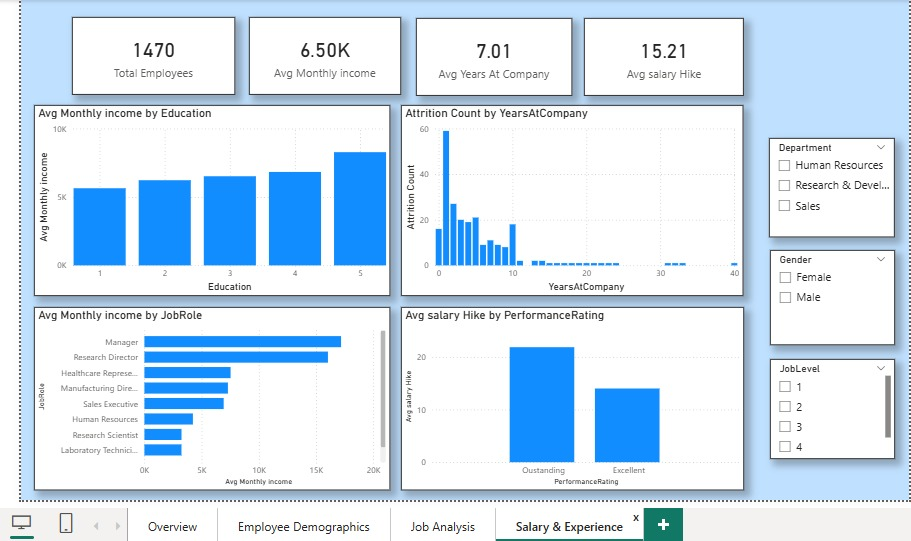

The page's visual inventory and layout, read from the dashboard file:
{"tool":"powerbi","page":{"name":"Salary & Experience","canvas":[1280,720],"ordinal":3},"visuals":[{"type":"clusteredBarChart","fields":{"Category":["HR Data.JobRole"],"Y":["Dax Measures.Avg Monthly income"]},"box":[18.7,442.1,512.6,263.5],"z":0},{"type":"clusteredColumnChart","fields":{"Category":["HR Data.Education"],"Y":["Dax Measures.Avg Monthly income"]},"box":[18.4,151.7,513.1,275],"z":1000},{"type":"clusteredColumnChart","fields":{"Category":["HR Data.YearsAtCompany"],"Y":["Dax Measures.Attrition Count"]},"box":[547.1,151.7,493.2,275],"z":2000},{"type":"card","fields":{"Values":["Dax Measures.Avg Years At Company"]},"box":[568.8,25.9,224.6,112.3],"z":3000},{"type":"card","fields":{"Values":["Dax Measures.Avg Monthly income"]},"box":[328.3,24.5,218.9,112.3],"z":4000},{"type":"card","fields":{"Values":["Dax Measures.Total Employees"]},"box":[73.4,24.5,234.7,112.3],"z":5000},{"type":"card","fields":{"Values":["Dax Measures.Avg salary Hike"]},"box":[810.7,25.9,230.4,112.3],"z":6000},{"type":"clusteredColumnChart","fields":{"Category":["PerformanceRating.PerformanceRating"],"Y":["Dax Measures.Avg salary Hike"]},"box":[547.2,442.1,493.9,263.5],"z":7000},{"type":"slicer","fields":{"Values":["HR Data.Department"]},"box":[1077.1,198.7,181.4,142.6],"z":8000},{"type":"slicer","fields":{"Values":["HR Data.JobLevel"]},"box":[1078.6,517,180,144],"z":9000},{"type":"slicer","fields":{"Values":["HR Data.Gender"]},"box":[1078.6,360,180,136.8],"z":10000}]}

Visuals, with their boxes on the page's 1280x720 design canvas (x1, y1, x2, y2). These are canvas units, not pixel positions in the 911x541 screenshot, which may show the page scaled, cropped or inside an application window:
clusteredBarChart - HR Data.JobRole x Dax Measures.Avg Monthly income: bbox=(19, 442, 531, 706)
clusteredColumnChart - HR Data.Education x Dax Measures.Avg Monthly income: bbox=(18, 152, 532, 427)
clusteredColumnChart - HR Data.YearsAtCompany x Dax Measures.Attrition Count: bbox=(547, 152, 1040, 427)
card - Dax Measures.Avg Years At Company: bbox=(569, 26, 793, 138)
card - Dax Measures.Avg Monthly income: bbox=(328, 24, 547, 137)
card - Dax Measures.Total Employees: bbox=(73, 24, 308, 137)
card - Dax Measures.Avg salary Hike: bbox=(811, 26, 1041, 138)
clusteredColumnChart - PerformanceRating.PerformanceRating x Dax Measures.Avg salary Hike: bbox=(547, 442, 1041, 706)
slicer - HR Data.Department: bbox=(1077, 199, 1258, 341)
slicer - HR Data.JobLevel: bbox=(1079, 517, 1259, 661)
slicer - HR Data.Gender: bbox=(1079, 360, 1259, 497)
